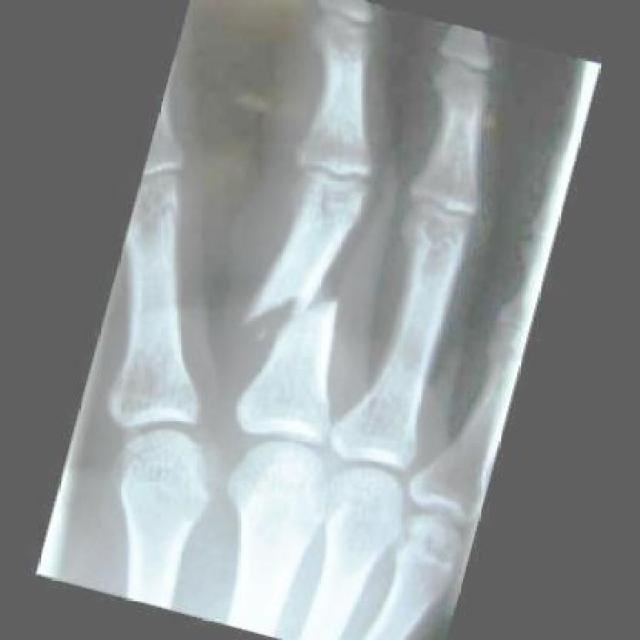Fracture: (238, 240, 360, 362)
